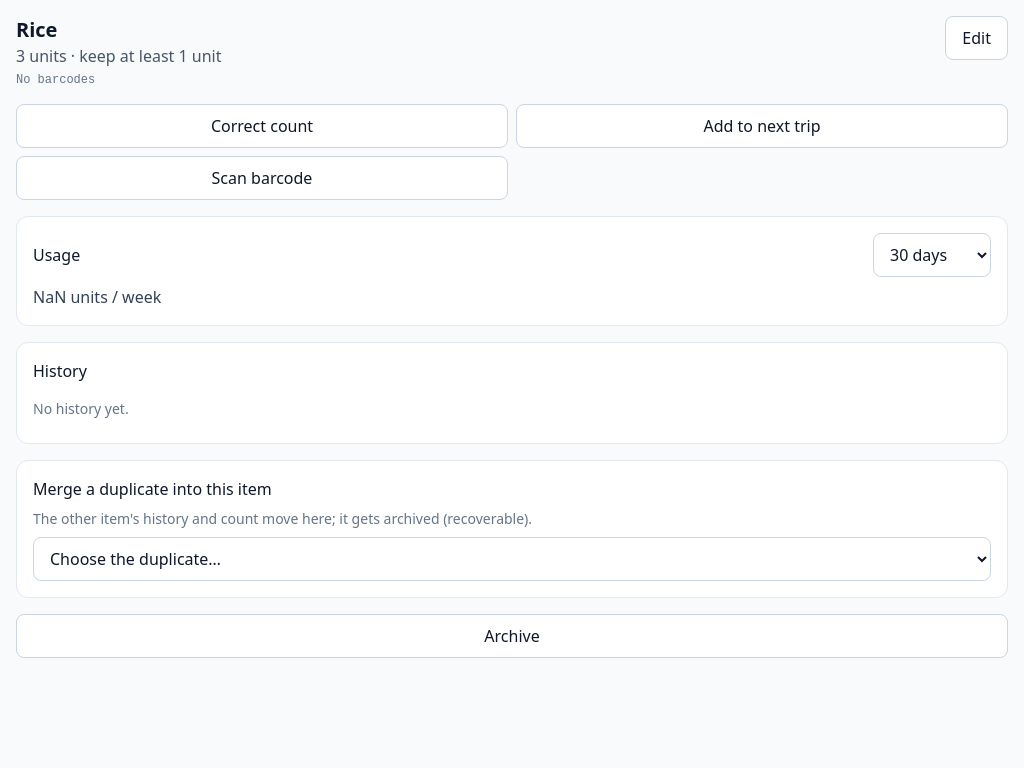
Test: ItemDetail "Correct count" › surfaces an adjust failure as a toast
The width and height of the screenshot is (1024, 768).
Click the button "Correct count" at (262, 126), box [16, 104, 508, 148]
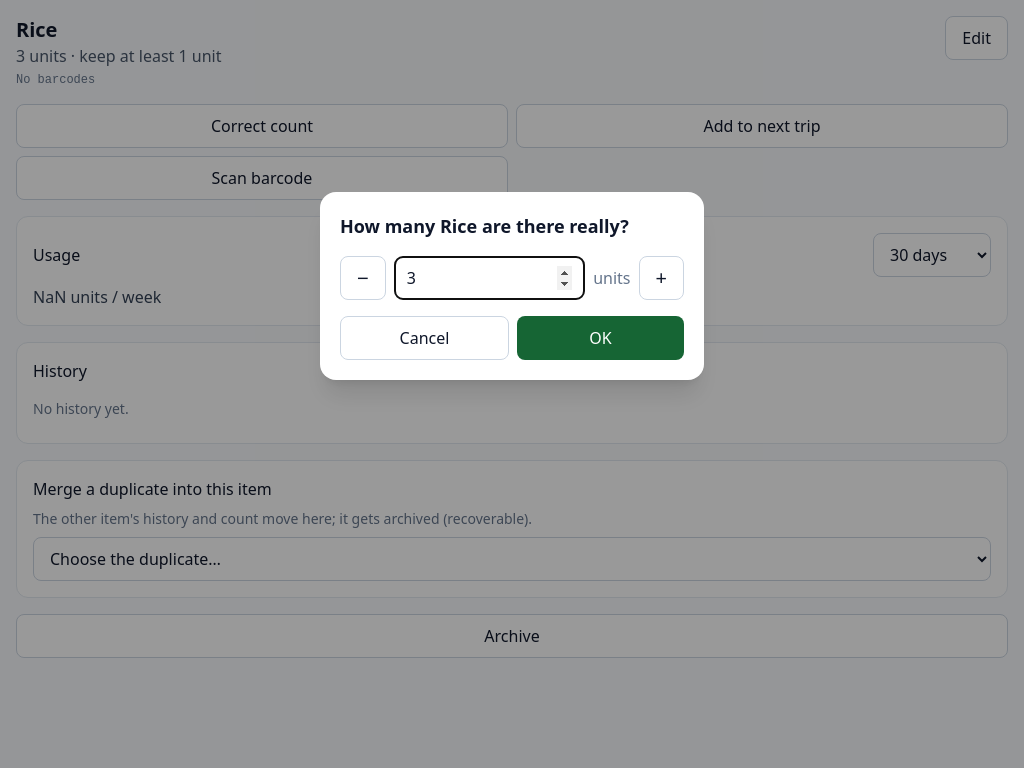
Replace the text in the number field named "Quantity" with "7" at (489, 278), box [394, 256, 585, 300]
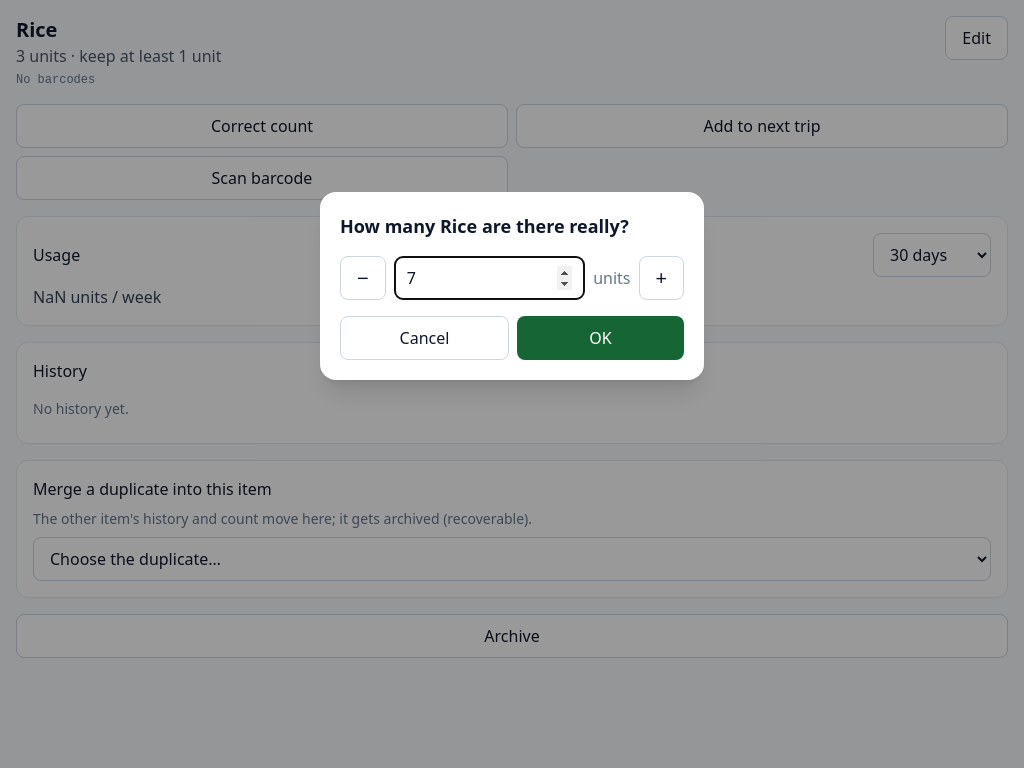
Click the button "OK" at (600, 338), box [517, 316, 684, 360]
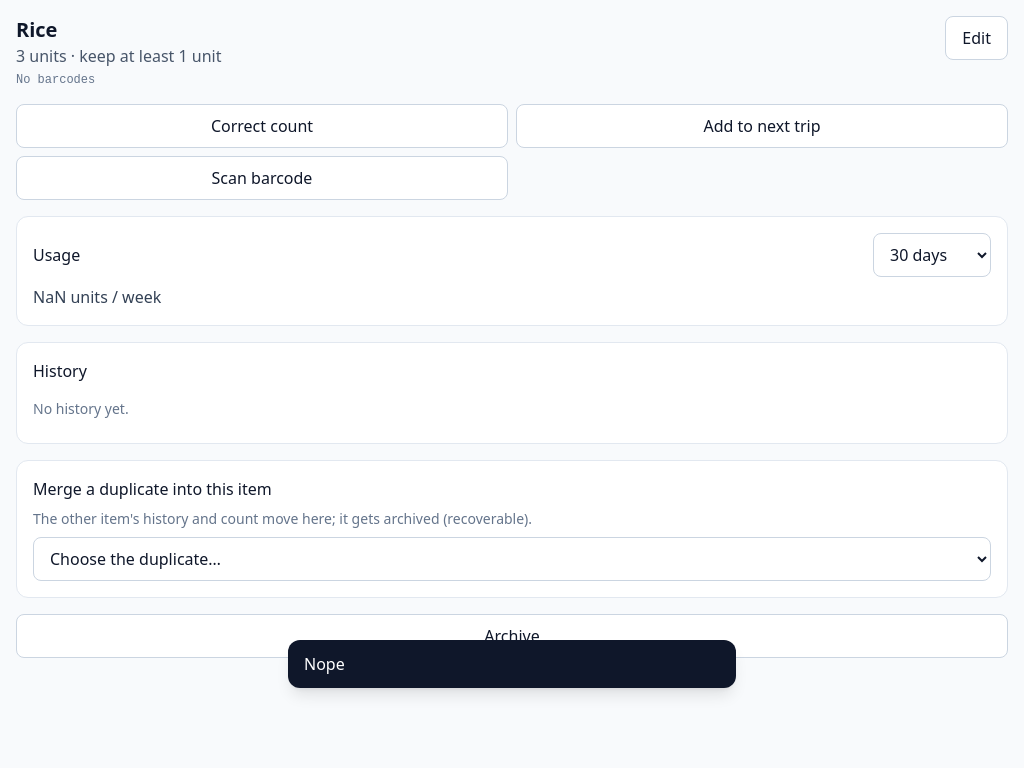
Expected: the text "Nope" is shown, [304, 652, 345, 676]
